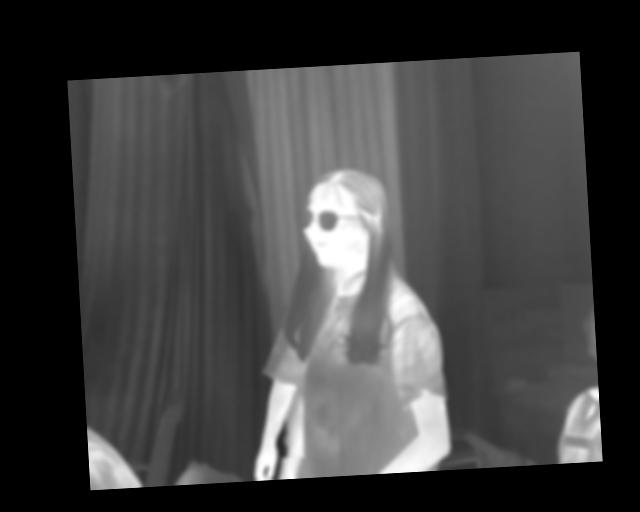face: (298, 167, 386, 269)
